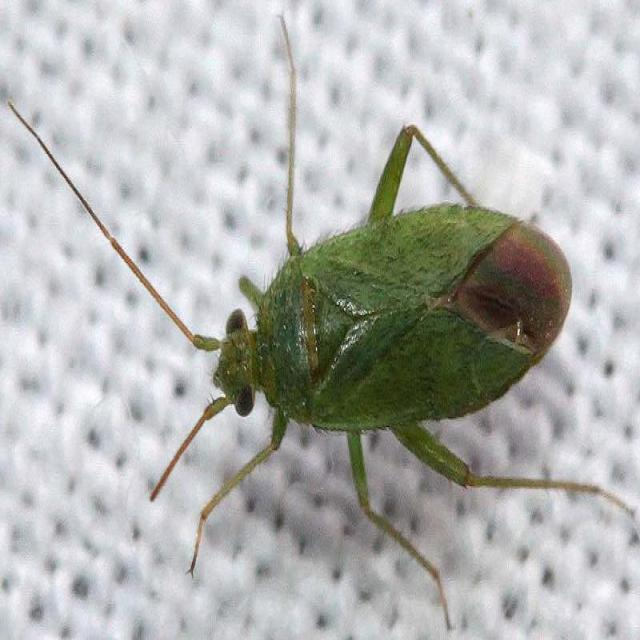Miridae-Adult-: (6, 11, 638, 626)
